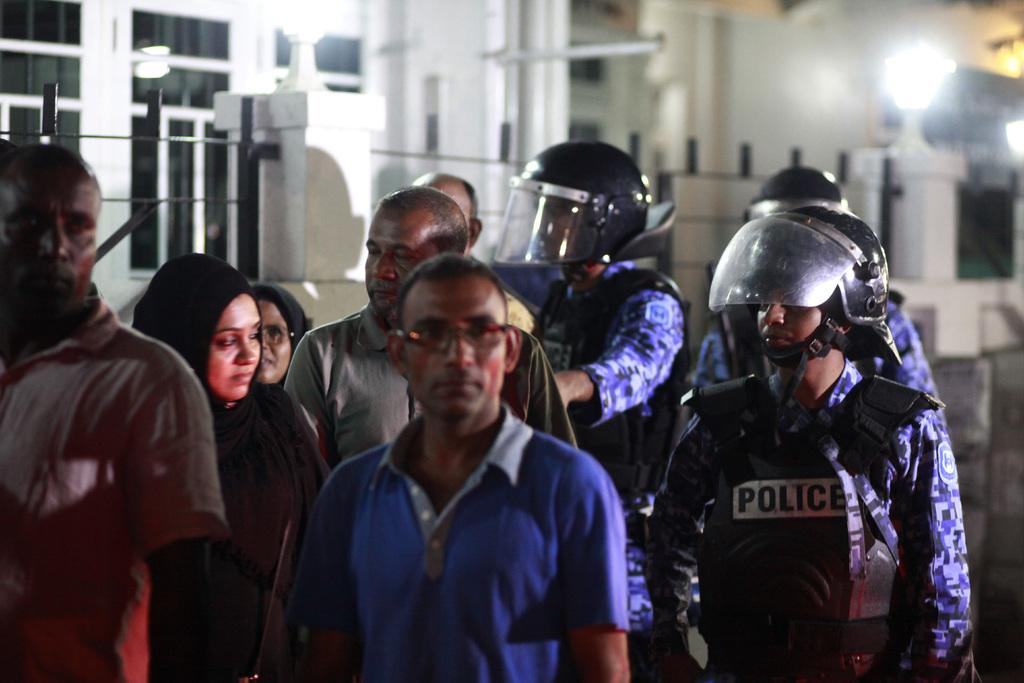helmet: (708, 205, 890, 360), (493, 140, 652, 266)
nohelmet: (384, 252, 524, 429), (0, 142, 104, 331), (143, 252, 266, 404), (363, 184, 471, 327)
